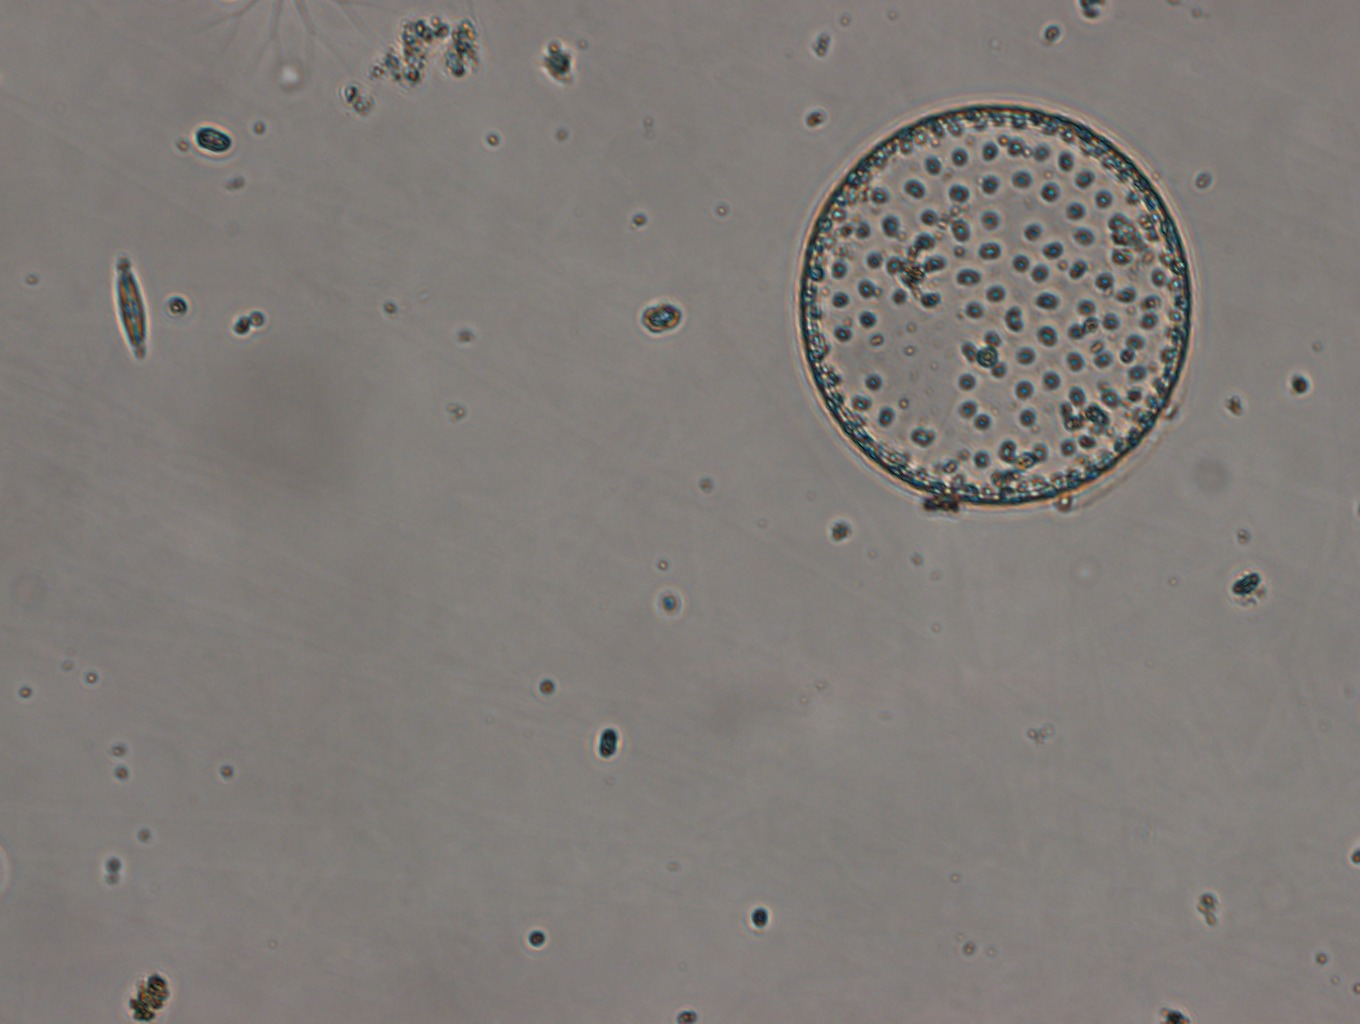coscinodiscus: (794, 99, 1196, 508)
navicula: (112, 251, 151, 364)
